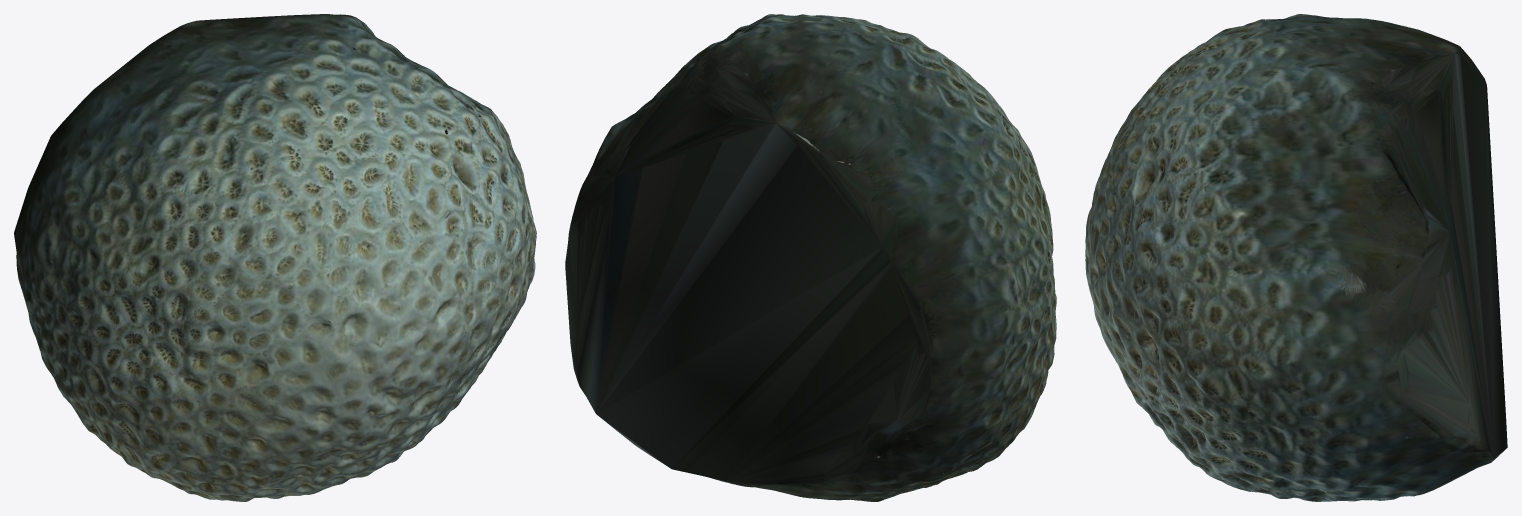
Rendered from CORAL2-v1.glb.
The picture shows the model from 3 angles, left to right: view 1: azimuth 30°, elevation 25°; view 2: azimuth 150°, elevation 25°; view 3: azimuth 270°, elevation 25°; orthographic projection. The views are drawn at different scales.
Parts seen in each view (by area): view 1: Node1; view 2: Node1; view 3: Node1.
Part boxes in pixels (left/top/right/bottom): Node1: left=14, top=14, right=536, bottom=501; Node1: left=565, top=14, right=1056, bottom=501; Node1: left=1085, top=14, right=1507, bottom=501.
Size of the model in its own units: 62.54 by 58.6 by 49.92.
Materials: 1 (1 with a texture image).
